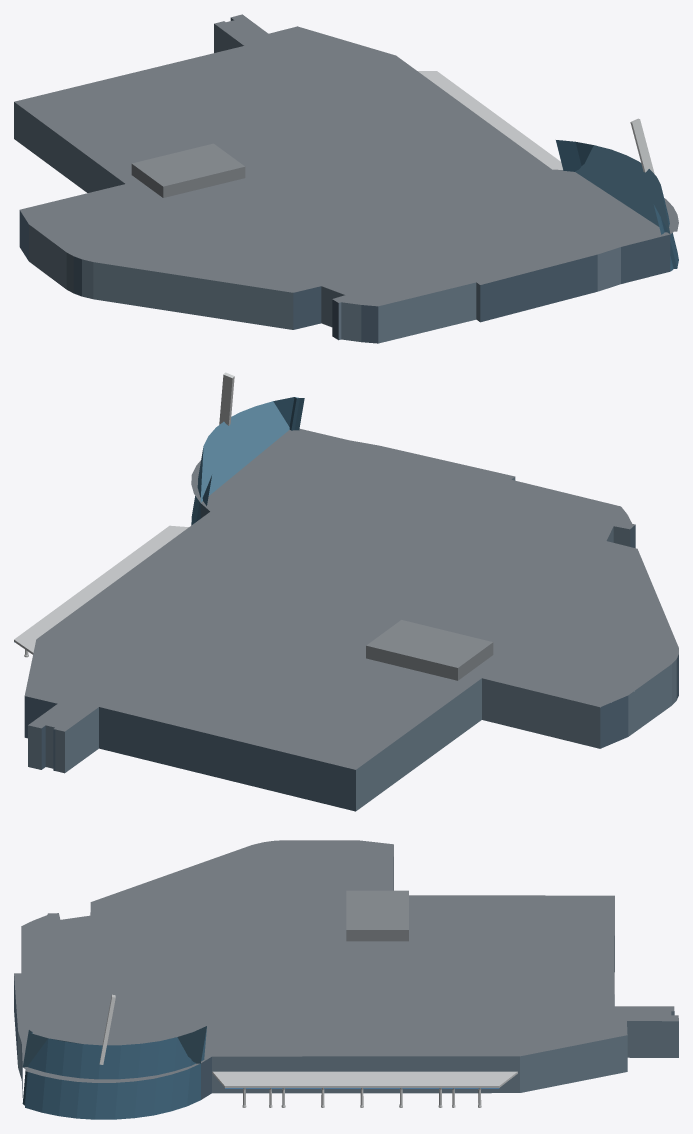
Rendered from georgia-aquarium.glb.
The picture shows the model from 3 angles, top to bottom: view 1: azimuth 30°, elevation 25°; view 2: azimuth 150°, elevation 25°; view 3: azimuth 270°, elevation 25°; orthographic projection. The views are drawn at different scales.
Visible parts, largest first — view 1: lod1_lm_stone, lod0_bld_wall, lod0_lm_stone, lod0_lm_glass, lod0_bld_glass; view 2: lod1_lm_stone, lod0_bld_wall, lod0_lm_stone, lod0_lm_glass, lod0_bld_glass; view 3: lod1_lm_stone, lod0_bld_wall, lod0_bld_glass, lod0_lm_stone, lod0_lm_glass.
Boxes of the visible parts, box(x1,y1,x2,y2) form: lod1_lm_stone: box(14, 14, 678, 306); lod0_bld_wall: box(14, 18, 670, 343); lod0_lm_stone: box(131, 118, 654, 197); lod0_lm_glass: box(575, 145, 670, 233); lod0_bld_glass: box(556, 140, 678, 271); lod1_lm_stone: box(14, 374, 678, 769); lod0_bld_wall: box(24, 477, 678, 811); lod0_lm_stone: box(24, 372, 493, 680); lod0_lm_glass: box(201, 397, 298, 502); lod0_bld_glass: box(191, 397, 304, 525); lod1_lm_stone: box(14, 840, 678, 1107); lod0_bld_wall: box(14, 857, 678, 1099); lod0_bld_glass: box(22, 1027, 206, 1119); lod0_lm_stone: box(99, 890, 499, 1107); lod0_lm_glass: box(23, 1030, 196, 1067).
Size of the model in its own units: 184 by 40.37 by 213.
